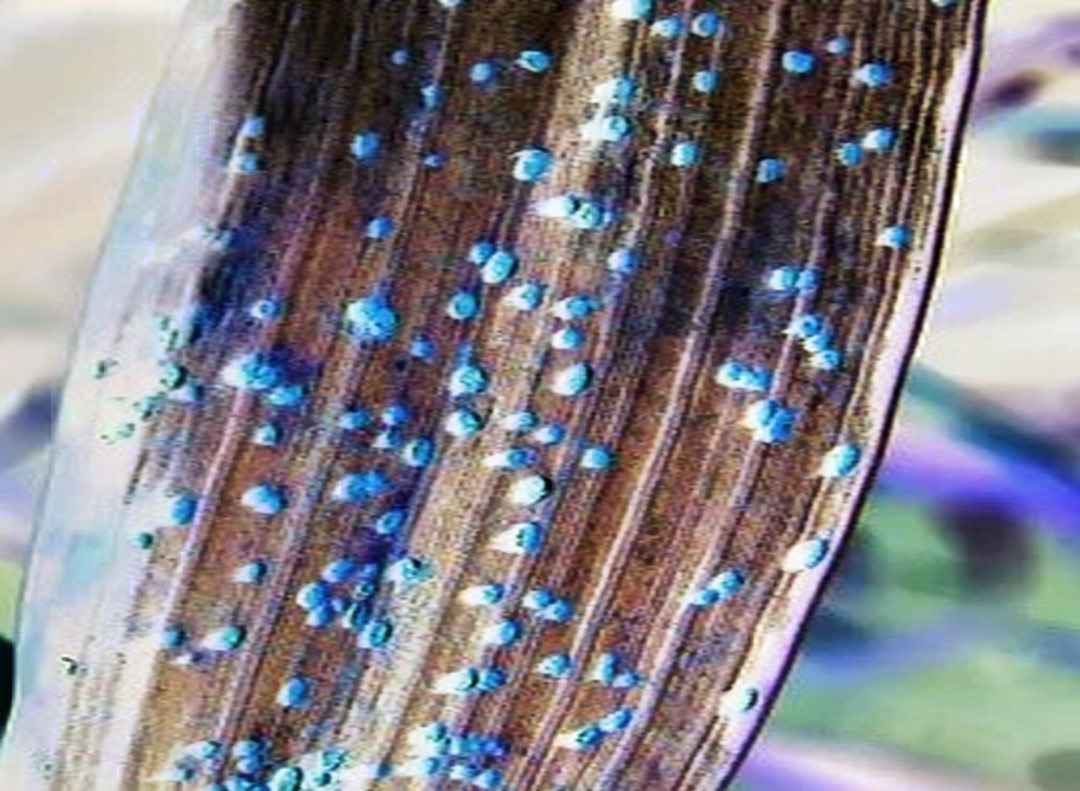Leaf Rust: (236, 34, 860, 724)
